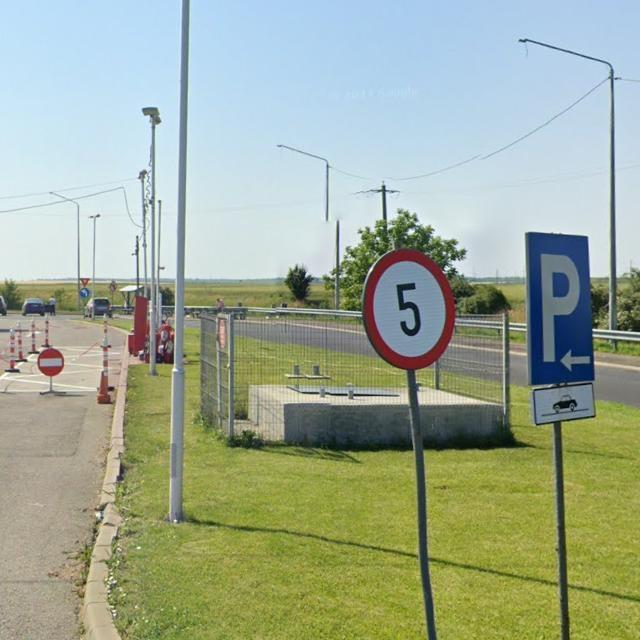prio_give_way: (79, 278, 90, 288)
